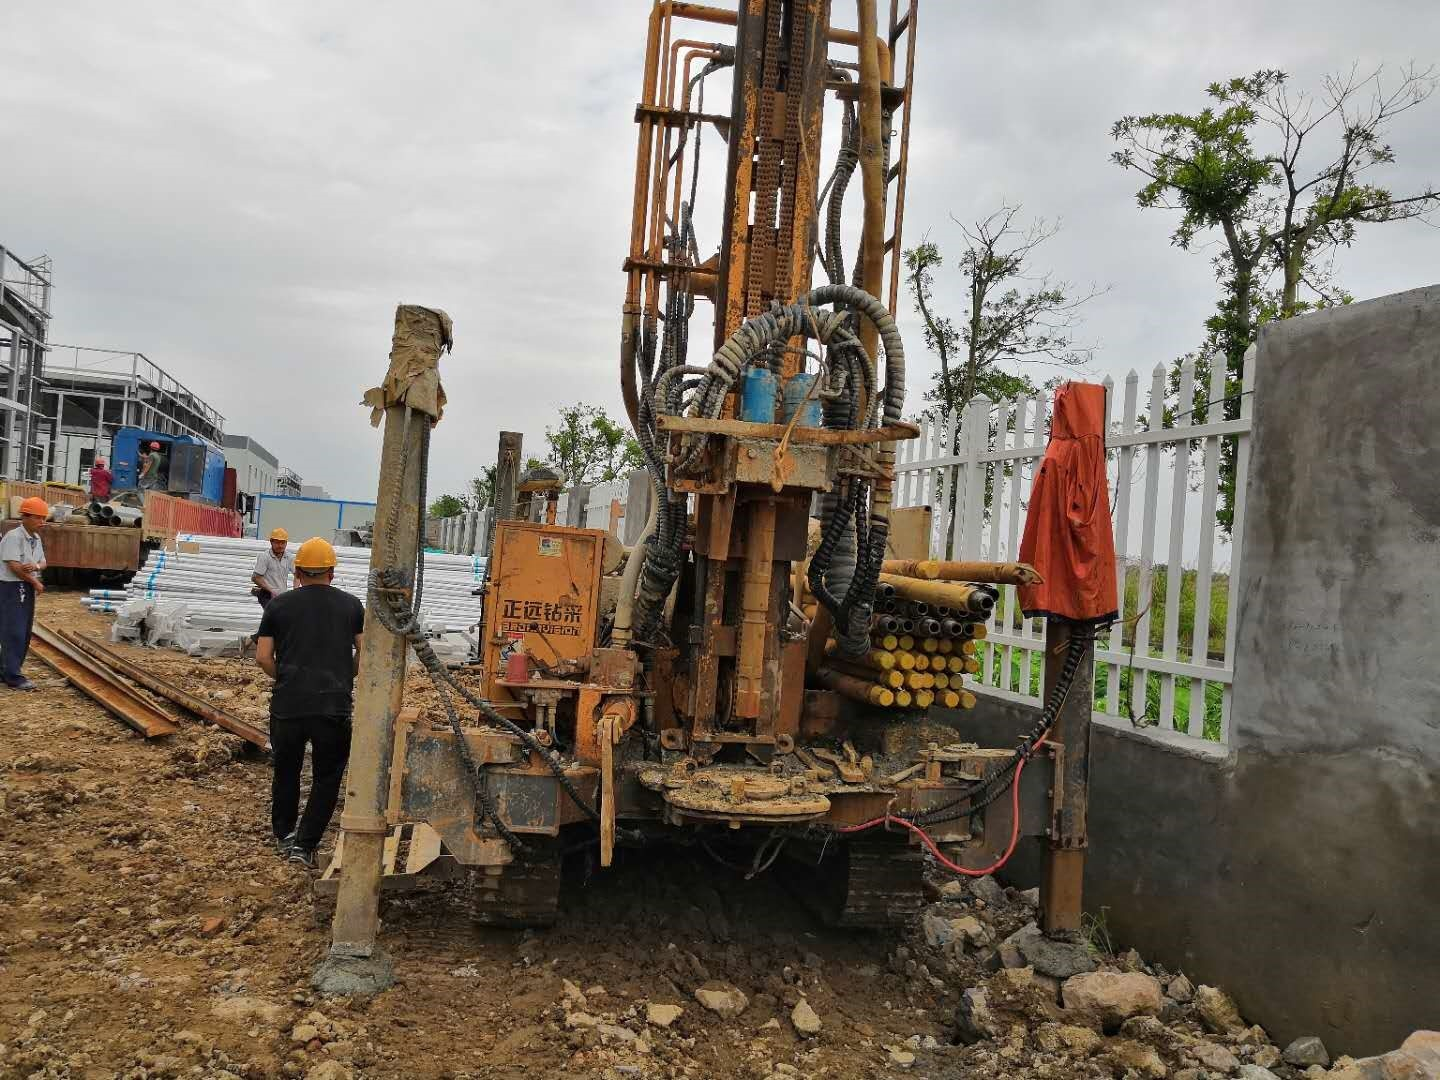red: (93, 456, 105, 470), (149, 439, 160, 453)
yellow: (293, 535, 342, 588), (16, 493, 50, 533), (268, 525, 289, 555)
